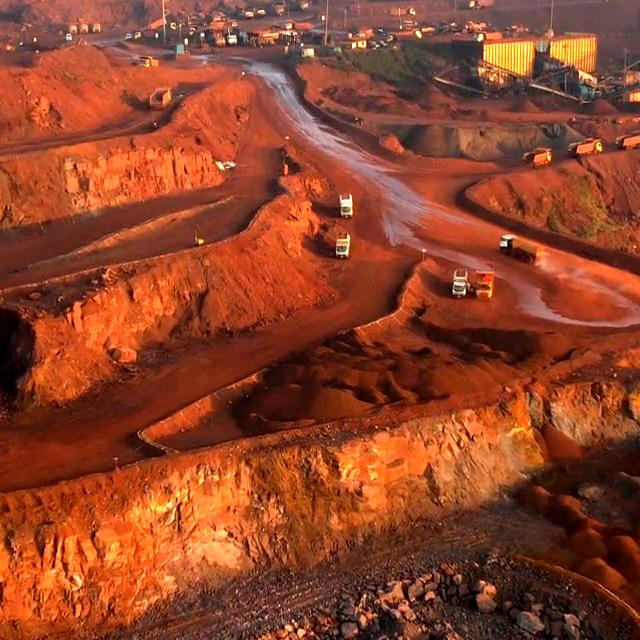Dumper truck: (524, 148, 552, 165), (578, 138, 603, 154), (151, 88, 171, 106), (623, 131, 640, 147)
car: (451, 269, 468, 296), (336, 231, 351, 257)
